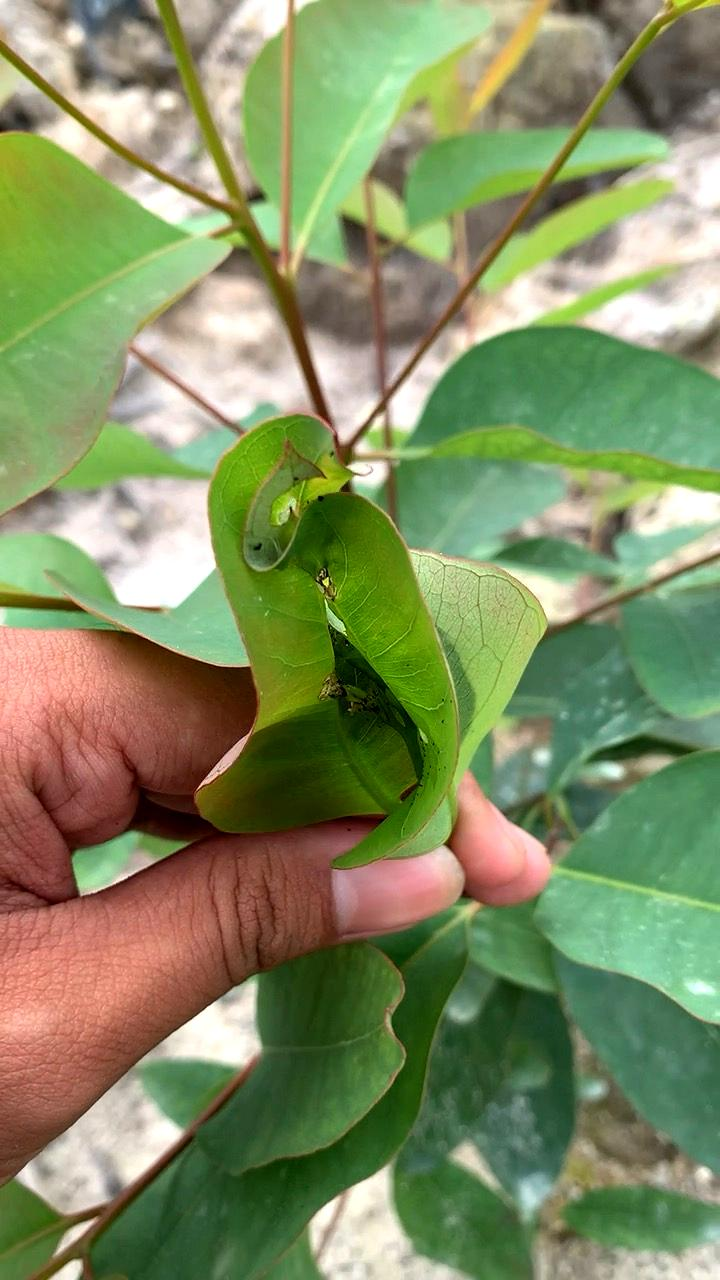Leaf Roller - Leaf: (179, 393, 526, 870)
